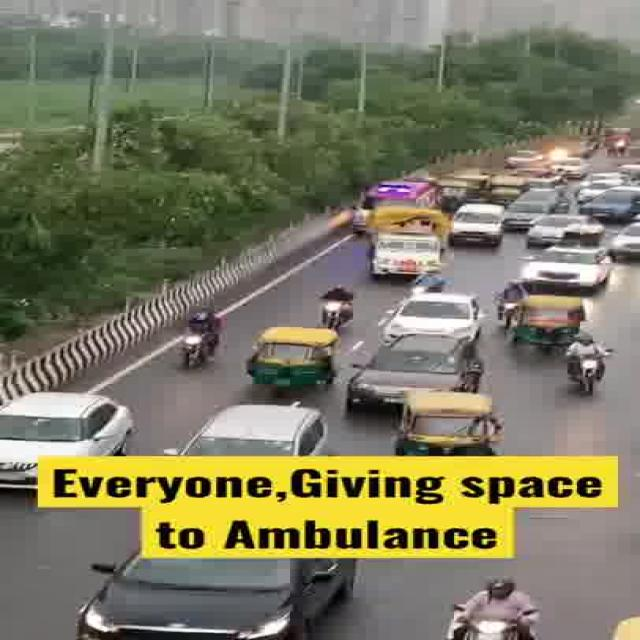ambulance: (357, 180, 437, 208)
